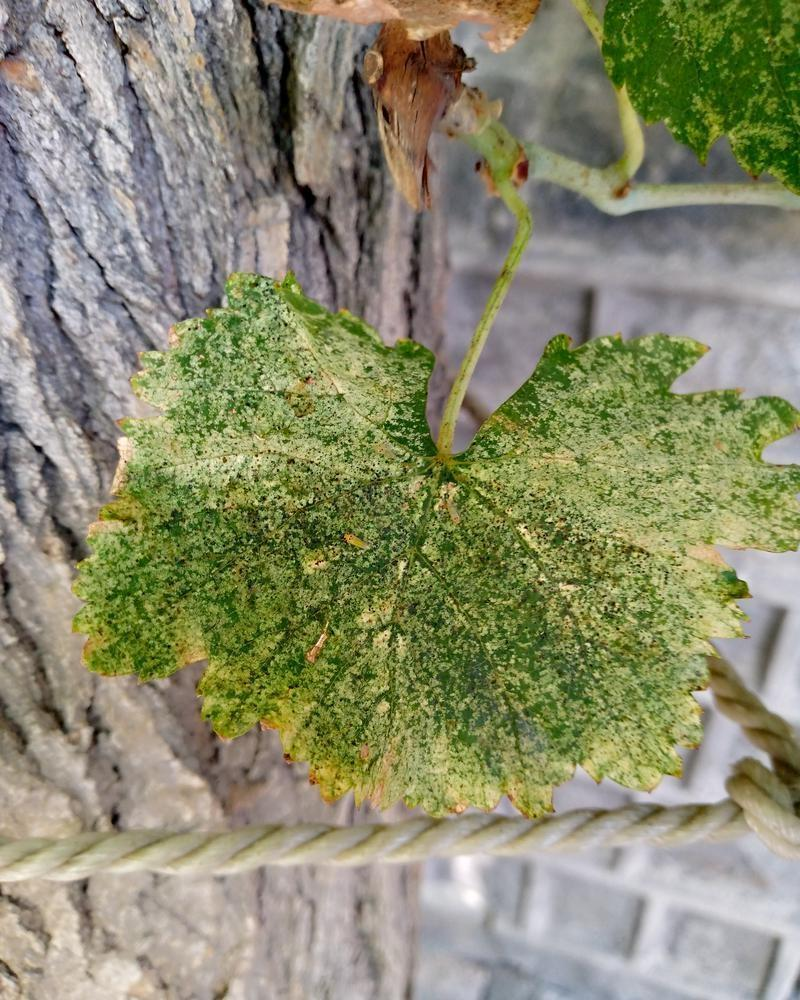Powdery-Mildew: (135, 309, 507, 580), (496, 493, 740, 764), (304, 592, 518, 802), (629, 412, 787, 569), (487, 360, 644, 481), (80, 496, 151, 658), (155, 599, 218, 662), (219, 651, 282, 714), (568, 727, 631, 790)
